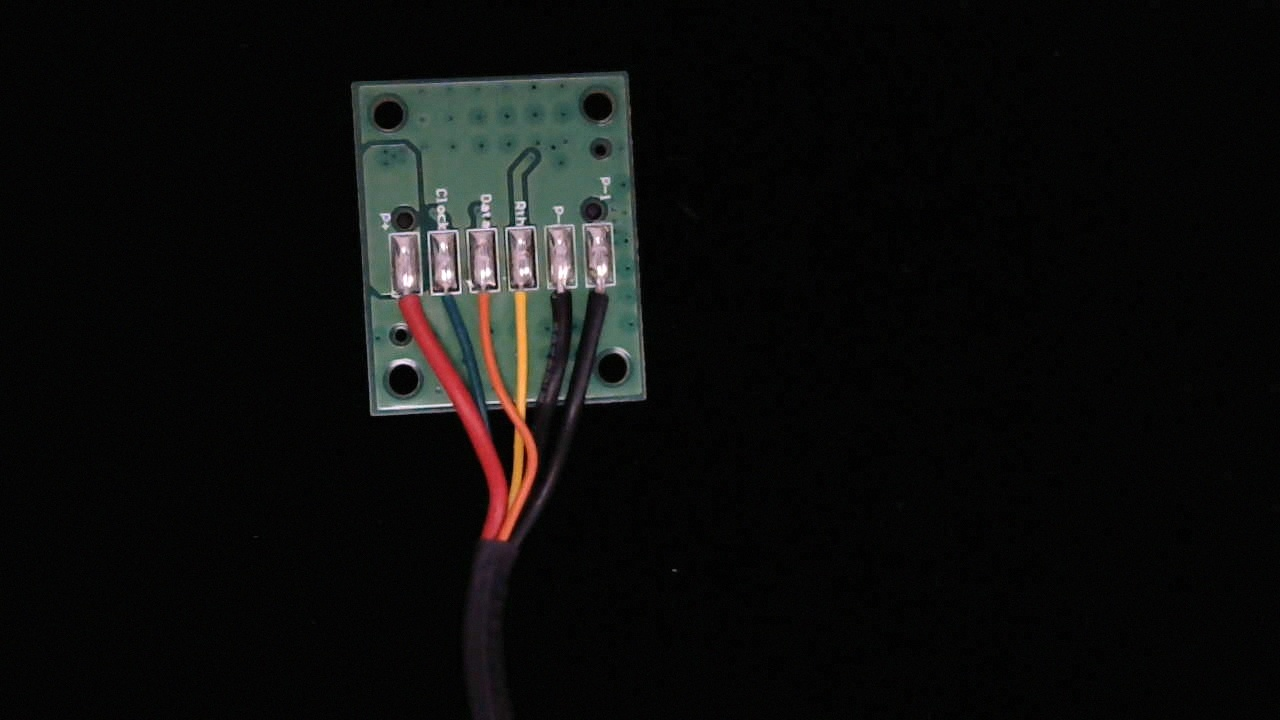Black: (555, 270, 590, 345)
Black1: (594, 271, 628, 339)
Green: (435, 273, 469, 333)
Orange: (476, 272, 509, 345)
Red: (397, 275, 431, 335)
Yellow: (515, 270, 551, 346)
